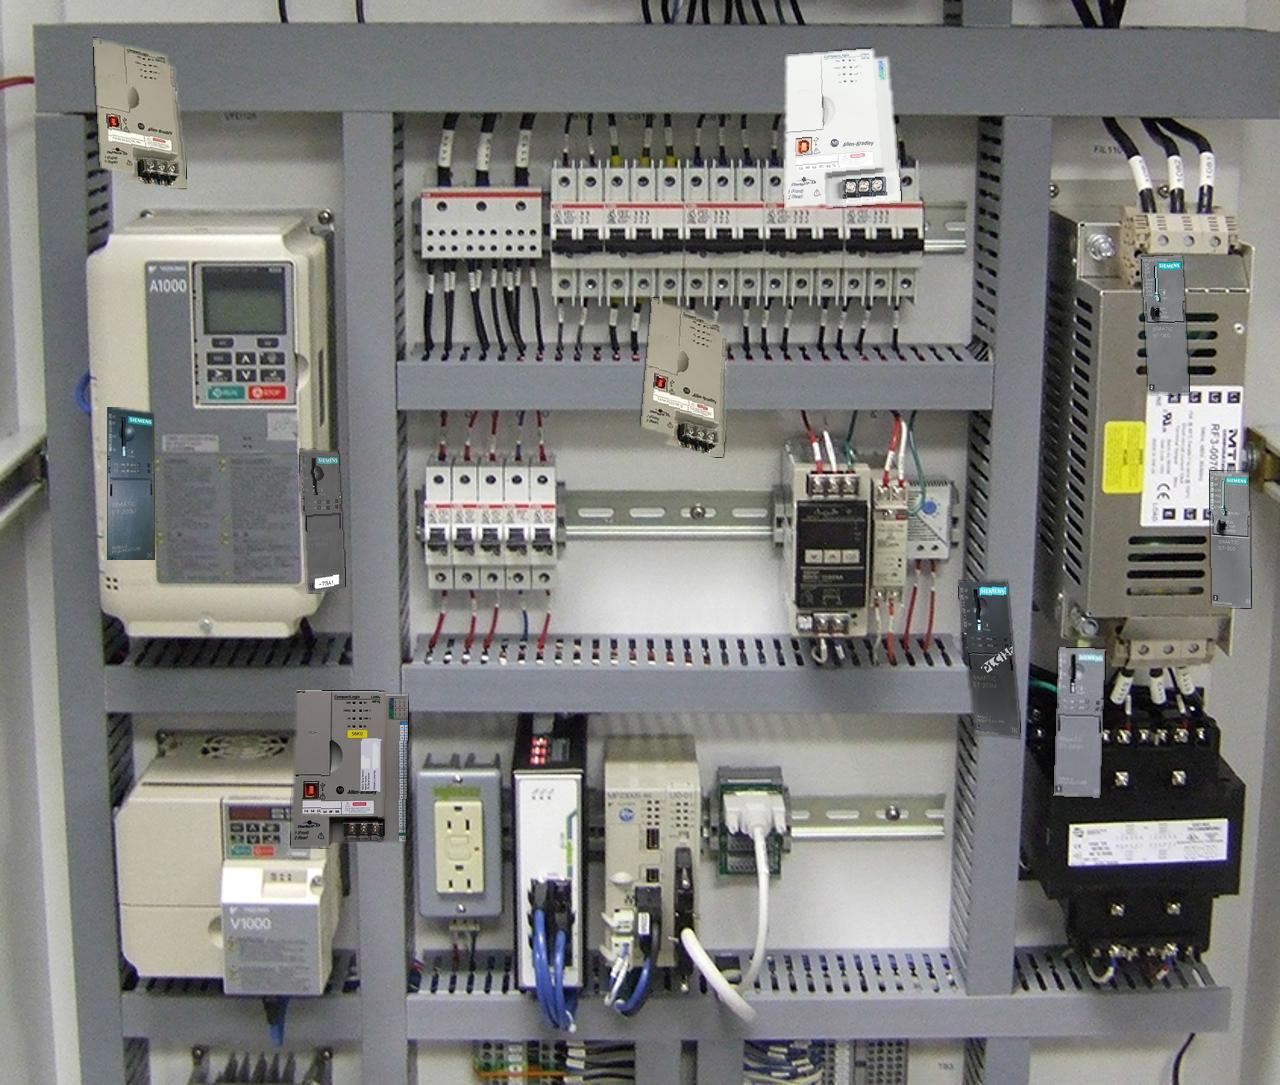AllenBradley: (784, 50, 900, 208), (291, 690, 407, 847), (93, 38, 186, 187), (641, 298, 727, 456)
Siemens: (1141, 256, 1188, 393), (1210, 471, 1250, 607)
